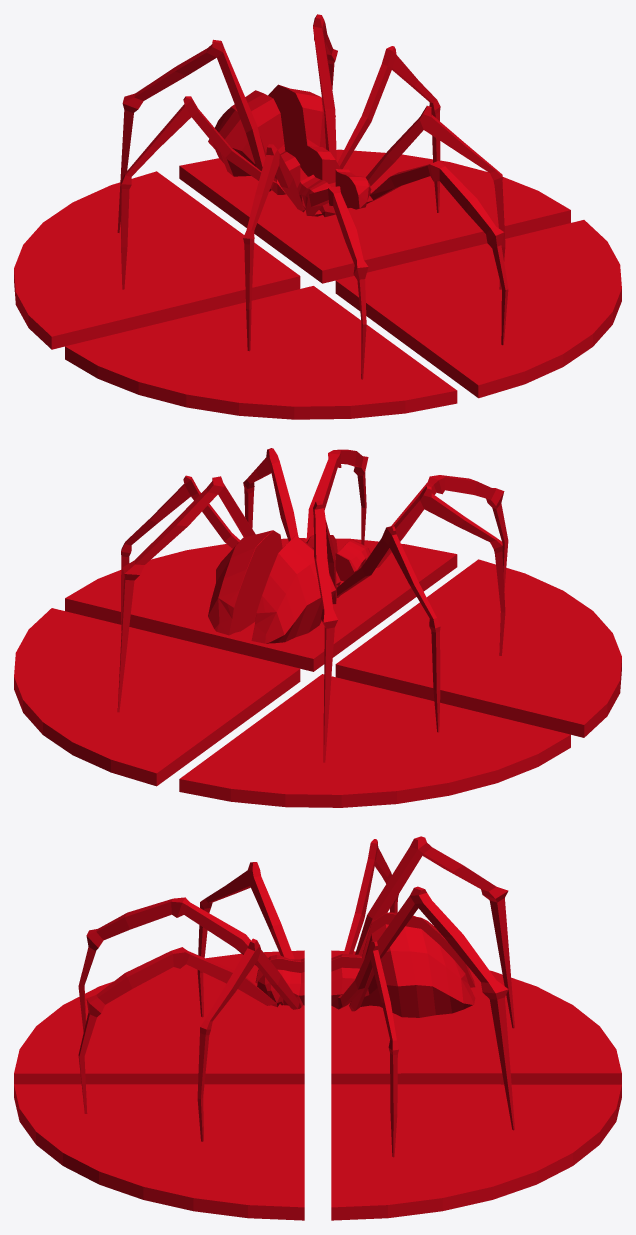
File: plastic_medium.fbx
3 views of the same model, one above another, from view 1: azimuth 30°, elevation 25°; view 2: azimuth 150°, elevation 25°; view 3: azimuth 270°, elevation 25° (orthographic).
Visible parts, largest first — view 1: Cylinder.005, Cylinder.007, Cylinder.006, Cylinder.004; view 2: Cylinder.005, Cylinder.004, Cylinder.007, Cylinder.006; view 3: Cylinder.004, Cylinder.006, Cylinder.007, Cylinder.005.
Part boxes in pixels (box(x1,y1,x2,y2)): Cylinder.005: box(14, 39, 300, 349); Cylinder.007: box(65, 144, 457, 419); Cylinder.006: box(335, 105, 621, 398); Cylinder.004: box(179, 14, 570, 283); Cylinder.005: box(179, 500, 570, 807); Cylinder.004: box(14, 475, 300, 786); Cylinder.007: box(335, 475, 621, 737); Cylinder.006: box(65, 448, 457, 671); Cylinder.004: box(331, 886, 621, 1220); Cylinder.006: box(14, 938, 304, 1220); Cylinder.007: box(14, 862, 304, 1084); Cylinder.005: box(331, 836, 621, 1084).
Bounding box in the file's own units: 1139 × 473 × 1139.
